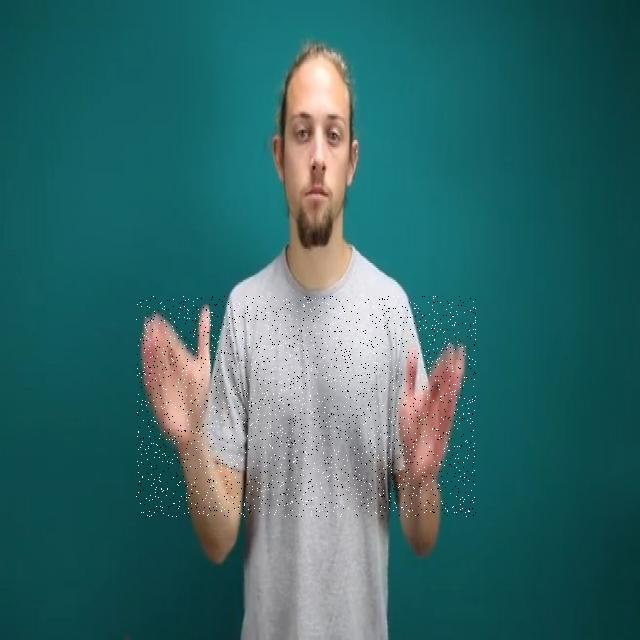small: (136, 296, 476, 517)
